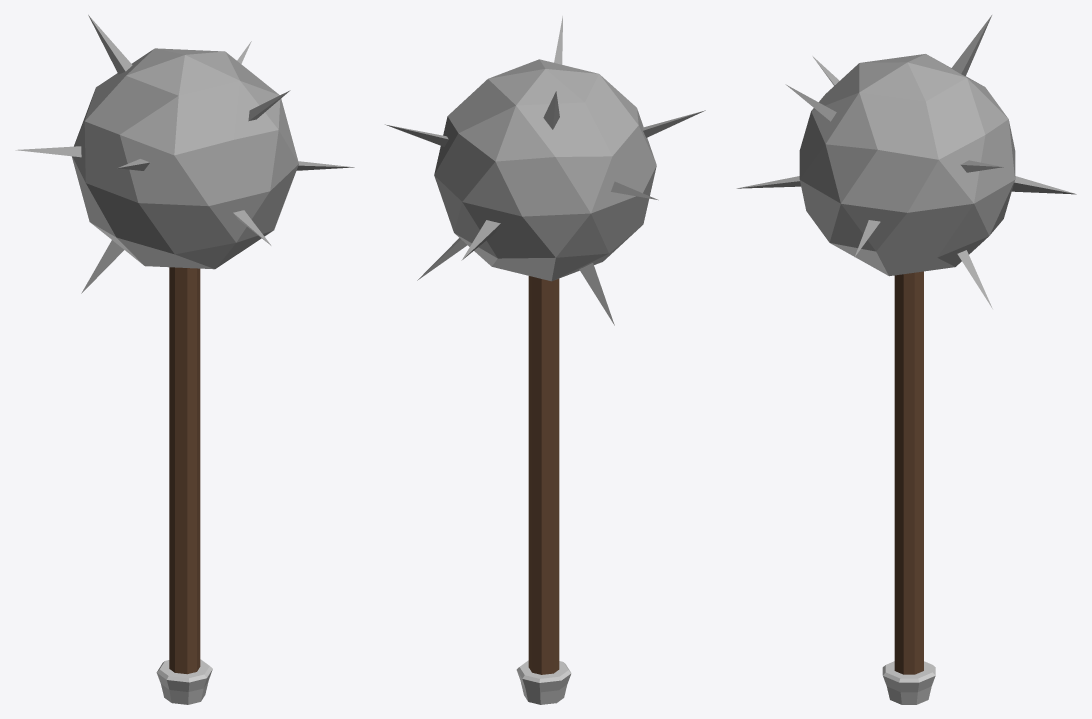
File: Mace_1.fbx
The picture shows the model from 3 angles, left to right: view 1: azimuth 30°, elevation 25°; view 2: azimuth 150°, elevation 25°; view 3: azimuth 270°, elevation 25°; orthographic projection. The views are drawn at different scales.
Visible parts, largest first — view 1: Mace_1; view 2: Mace_1; view 3: Mace_1.
Part boxes in pixels (<box>): Mace_1: <box>15,15,354,704</box>; Mace_1: <box>385,16,705,704</box>; Mace_1: <box>736,15,1076,704</box>.
Size of the model in its own units: 0.245 by 0.541 by 0.256.
